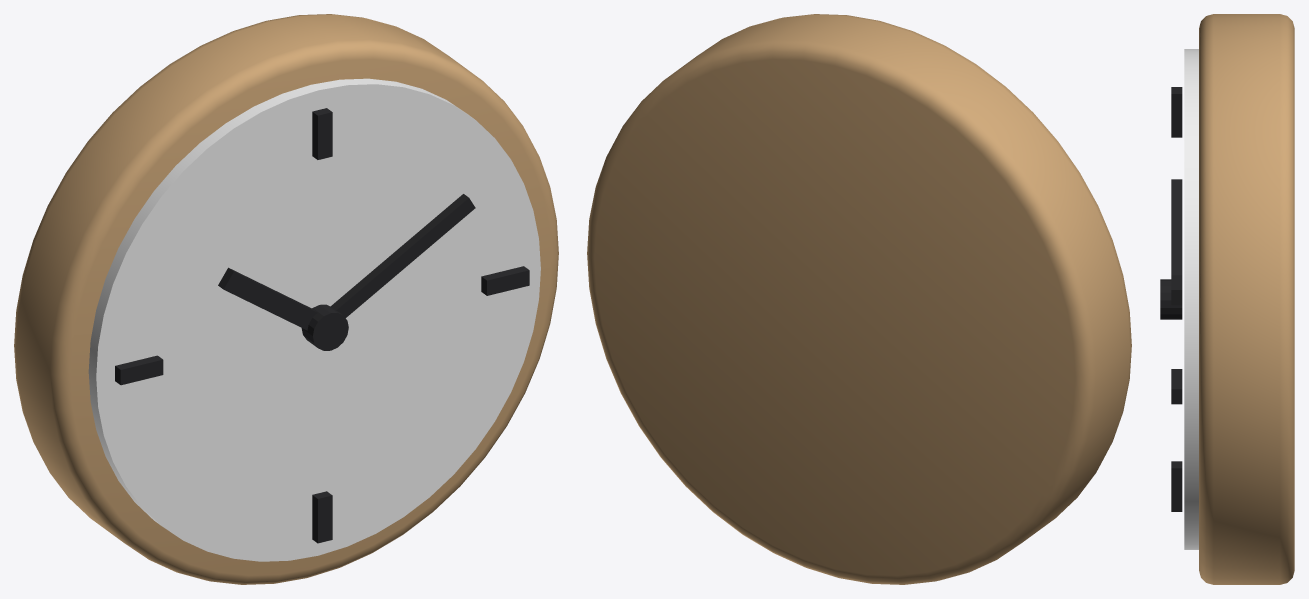
File: wall_clock.glb
The picture shows the model from 3 angles, left to right: view 1: azimuth 30°, elevation 25°; view 2: azimuth 150°, elevation 25°; view 3: azimuth 270°, elevation 25°; orthographic projection. The views are drawn at different scales.
Parts seen in each view (by area): view 1: ClockFace, ClockCase, ClockHands; view 2: ClockCase; view 3: ClockCase, ClockFace, ClockHands.
Boxes of the visible parts, left/top/right/bottom form: ClockFace: left=88, top=78, right=540, bottom=561; ClockCase: left=14, top=14, right=558, bottom=584; ClockHands: left=115, top=108, right=529, bottom=543; ClockCase: left=587, top=14, right=1131, bottom=584; ClockCase: left=1199, top=14, right=1294, bottom=584; ClockFace: left=1184, top=49, right=1198, bottom=549; ClockHands: left=1160, top=87, right=1182, bottom=511.
Size of the model in its own units: 0.31 by 0.31 by 0.073.
